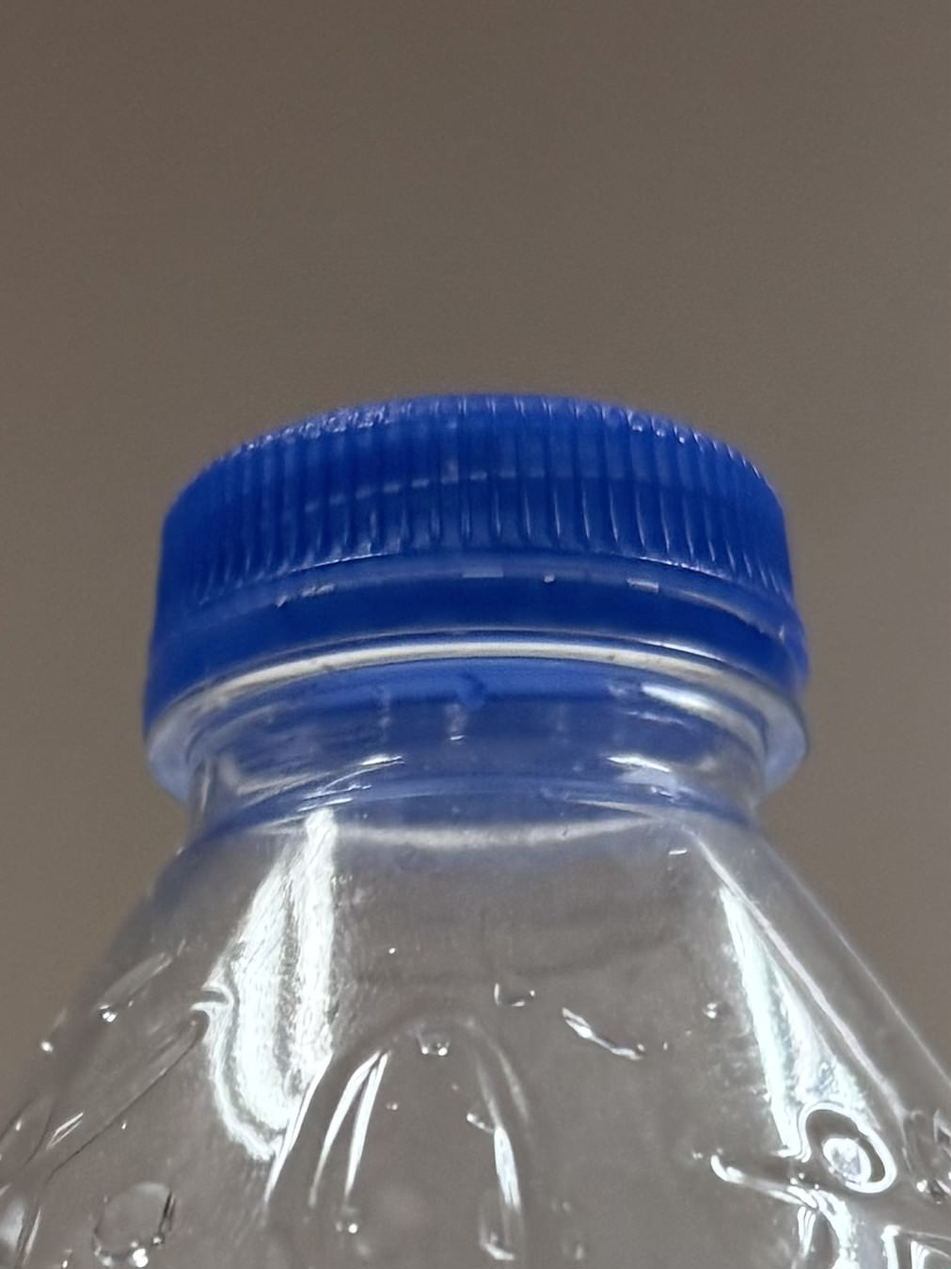closed_cap: (138, 385, 816, 808)
